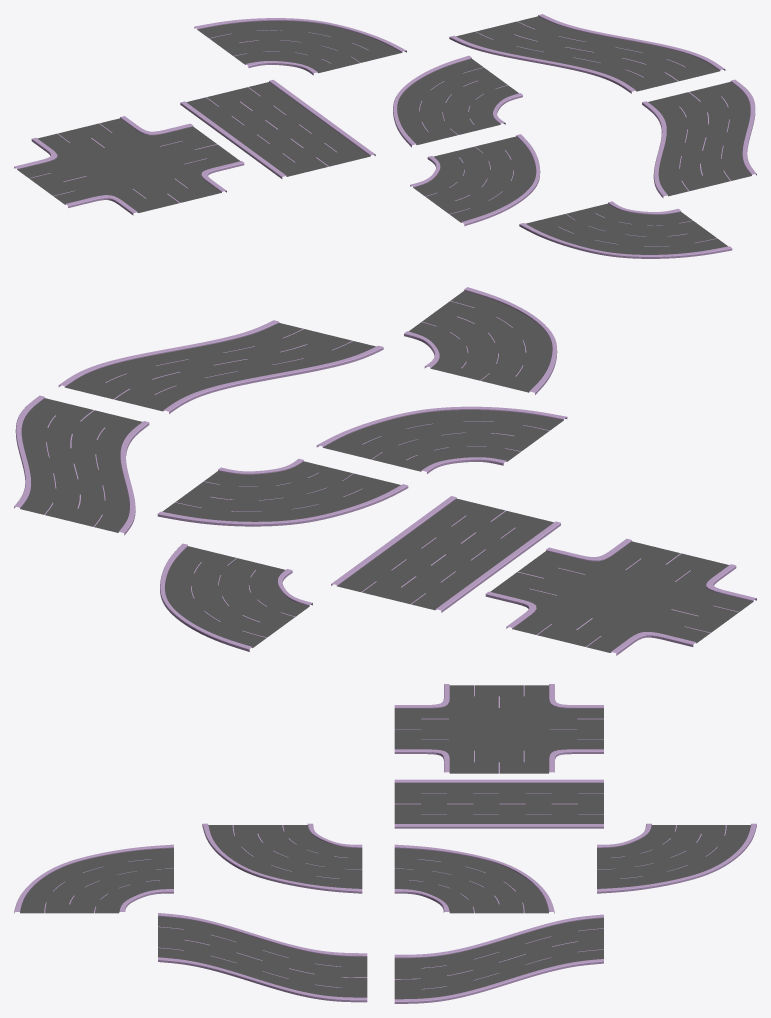
The model's file is Path_Roads.fbx.
3 views of the same model, one above another, from view 1: azimuth 30°, elevation 25°; view 2: azimuth 150°, elevation 25°; view 3: azimuth 270°, elevation 25° (orthographic). The views are drawn at different scales.
Visible parts, largest first — view 1: crossroad, CurvePartLeft, StrightRoadPart\, CurvePartRight, LeftDownRurn, RightUpTurn, RightDownTurn, LeftUpTurn; view 2: crossroad, CurvePartRight, StrightRoadPart\, CurvePartLeft, LeftUpTurn, RightDownTurn, RightUpTurn, LeftDownRurn; view 3: crossroad, StrightRoadPart\, CurvePartLeft, CurvePartRight, LeftUpTurn, RightDownTurn, LeftDownRurn, RightUpTurn.
Part boxes in pixels (<box>): crossroad: <box>14,116,244,215</box>; CurvePartLeft: <box>449,14,725,93</box>; StrightRoadPart\: <box>180,79,375,178</box>; CurvePartRight: <box>642,79,756,198</box>; LeftDownRurn: <box>519,201,732,258</box>; RightUpTurn: <box>194,18,406,75</box>; RightDownTurn: <box>410,134,540,226</box>; LeftUpTurn: <box>393,55,522,147</box>; crossroad: <box>485,538,756,655</box>; CurvePartRight: <box>58,320,383,413</box>; StrightRoadPart\: <box>331,496,560,612</box>; CurvePartLeft: <box>14,395,149,535</box>; LeftUpTurn: <box>157,458,408,526</box>; RightDownTurn: <box>316,406,567,473</box>; RightUpTurn: <box>160,543,312,651</box>; LeftDownRurn: <box>404,287,557,394</box>; crossroad: <box>394,684,603,773</box>; StrightRoadPart\: <box>394,779,603,828</box>; CurvePartLeft: <box>394,914,603,1003</box>; CurvePartRight: <box>158,913,367,1002</box>; LeftUpTurn: <box>394,844,554,913</box>; RightDownTurn: <box>202,823,362,893</box>; LeftDownRurn: <box>14,844,173,913</box>; RightUpTurn: <box>597,823,756,893</box>.
Size of the model in its own units: 5758 by 20.24 by 5695.
